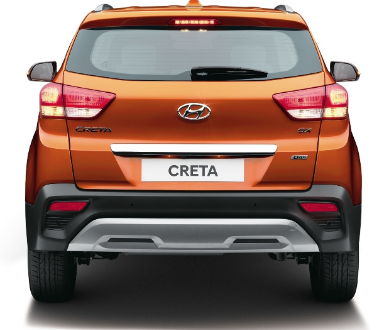car: (20, 1, 368, 318)
